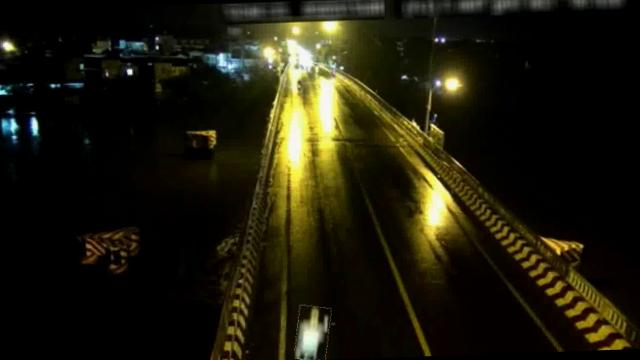Bike: (294, 305, 331, 360)
